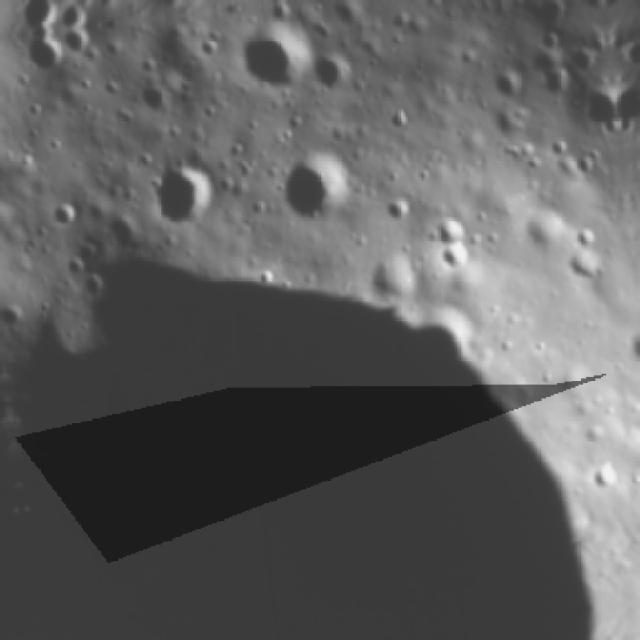crater: (0, 211, 592, 640), (268, 148, 360, 230), (235, 21, 312, 104), (144, 159, 216, 230), (306, 48, 359, 104), (574, 81, 620, 141), (562, 243, 607, 288), (23, 34, 68, 78), (426, 212, 472, 250), (434, 238, 477, 278), (491, 66, 531, 103), (586, 456, 620, 496), (59, 29, 96, 62), (570, 144, 602, 179), (49, 197, 80, 232), (378, 199, 416, 227), (0, 297, 26, 335), (384, 106, 413, 140), (532, 0, 566, 29), (577, 0, 604, 15)
